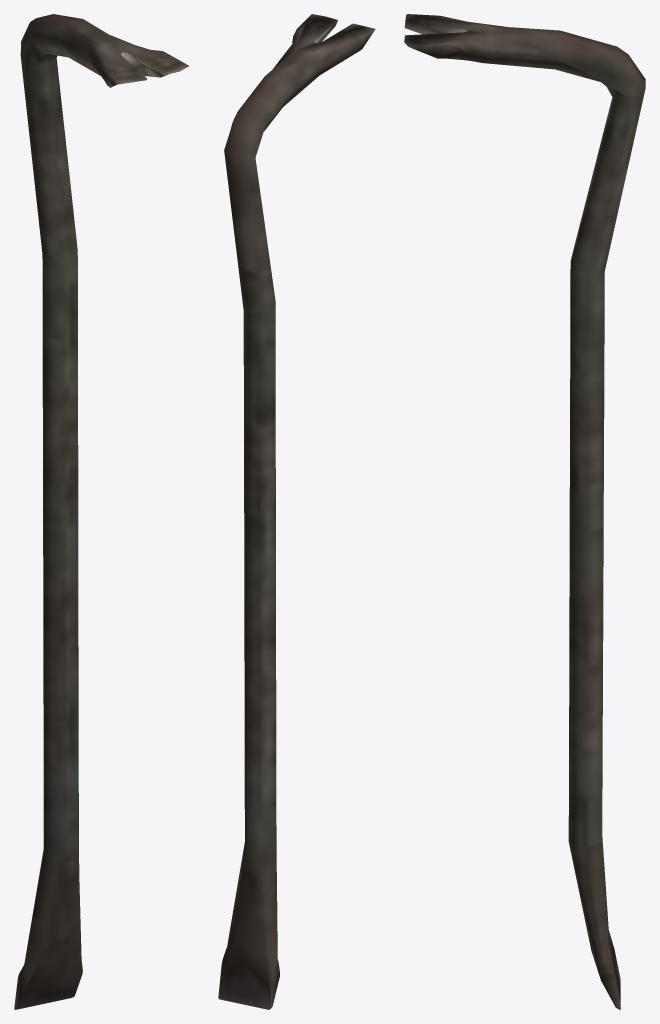
The picture shows the model from 3 angles, left to right: view 1: azimuth 30°, elevation 25°; view 2: azimuth 150°, elevation 25°; view 3: azimuth 270°, elevation 25°; orthographic projection. The views are drawn at different scales.
Parts seen in each view (by area): view 1: crowbar_01; view 2: crowbar_01; view 3: crowbar_01.
Part boxes in pixels (left/top/right/bottom): crowbar_01: left=14, top=14, right=188, bottom=1009; crowbar_01: left=218, top=14, right=375, bottom=1009; crowbar_01: left=404, top=14, right=645, bottom=1009.
Size of the model in its own units: 0.0404 by 0.555 by 0.1257.
Materials: 1 (1 with a texture image).
